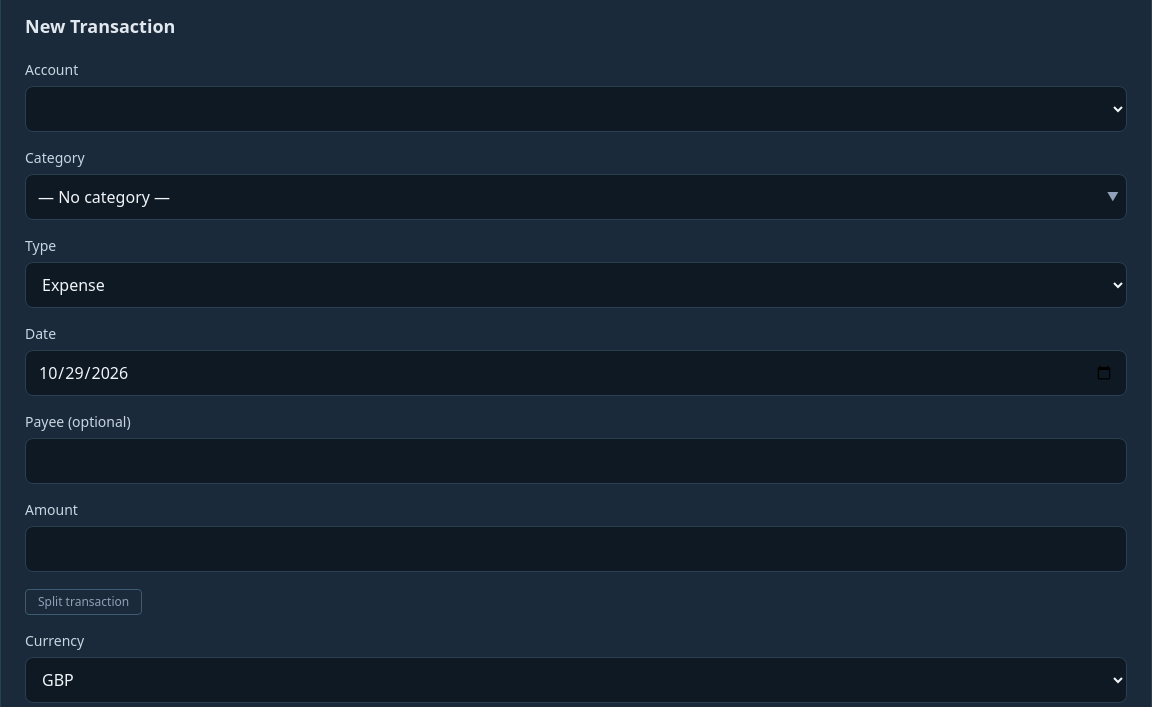
AddTransactionForm › shows the original transaction ID field when type is refund
Select "Refund" in the dropdown labelled "Type" at (576, 285), box [25,262,1127,308]
(page scrolled)
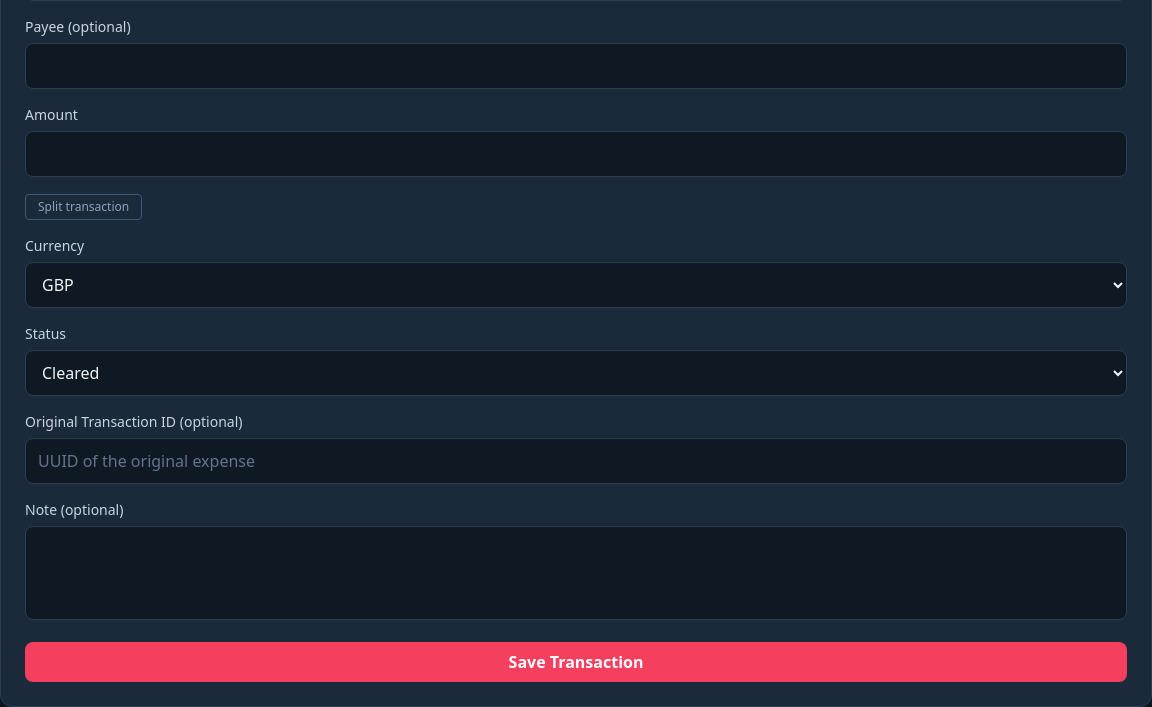
Expected: the field labelled "Original Transaction ID (optional)" is shown, [25,438,1127,484]
